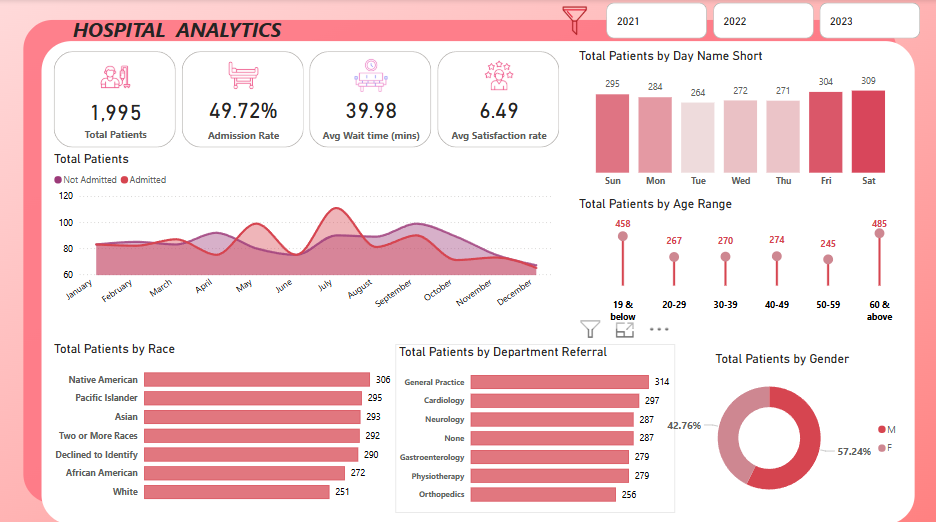

Layout of this report page (visuals, bound fields, positions):
{"tool":"powerbi","page":{"name":"Page 1","canvas":[1280,720],"ordinal":0},"visuals":[{"type":"cardVisual","fields":{"Data":["measures (2).totalpatients","measures (2).admission rate","measures (2).avg.wait time (mins)","measures (2).avg satisfaction"]},"box":[70,65.9,698.5,141.3],"z":0},{"type":"areaChart","title":"Total Patients","fields":{"Y":["measures (2).Total Patients"],"Series":["Hospital_ER_Dashboard_2021_2023_Final.Admission"],"Category":["DateTable.Month Name"]},"box":[70,207.2,688.9,230.5],"z":1000},{"type":"barChart","fields":{"Y":["measures (2).Total Patients"],"Category":["Hospital_ER_Dashboard_2021_2023_Final.Race"]},"box":[70,466.6,469.3,230.5],"z":2000},{"type":"barChart","fields":{"Y":["measures (2).Total Patients"],"Category":["Hospital_ER_Dashboard_2021_2023_Final.Department Referral"]},"box":[539.3,469.3,381.5,230.5],"z":3000},{"type":"donutChart","fields":{"Y":["measures (2).Total Patients"],"Category":["Hospital_ER_Dashboard_2021_2023_Final.Gender"]},"box":[897.4,480.3,338.9,216.8],"z":4000},{"type":"clusteredColumnChart","fields":{"Y":["measures (2).Total Patients"],"Category":["DateTable.Day Name Short"]},"box":[784.9,65.9,451.5,200.3],"z":5000},{"type":"lineChart","title":"Total Patients by Age Range","fields":{"Y":["measures (2).Total Patients"],"Category":["Hospital_ER_Dashboard_2021_2023_Final.age band"]},"box":[784.9,269,451.5,179.8],"z":6000},{"type":"advancedSlicerVisual","fields":{"Values":["DateTable.Year"]},"box":[822,0,439.1,59],"z":7000},{"type":"textbox","box":[87.8,19.2,307.4,59],"z":8000},{"type":"image","box":[731.9,0,103.8,59.6],"z":8001}]}

Visuals, with their boxes in screenshot pixels (x1, y1, x2, y2), scaled from the page's 1280x720 canvas onto the 936x522 screenshot:
cardVisual - measures (2).totalpatients x measures (2).admission rate: x1=51, y1=48, x2=562, y2=150
"Total Patients" areaChart: x1=51, y1=150, x2=555, y2=317
barChart - measures (2).Total Patients x Hospital_ER_Dashboard_2021_2023_Final.Race: x1=51, y1=338, x2=394, y2=505
barChart - measures (2).Total Patients x Hospital_ER_Dashboard_2021_2023_Final.Department Referral: x1=394, y1=340, x2=673, y2=507
donutChart - measures (2).Total Patients x Hospital_ER_Dashboard_2021_2023_Final.Gender: x1=656, y1=348, x2=904, y2=505
clusteredColumnChart - measures (2).Total Patients x DateTable.Day Name Short: x1=574, y1=48, x2=904, y2=193
"Total Patients by Age Range" lineChart: x1=574, y1=195, x2=904, y2=325
advancedSlicerVisual - DateTable.Year: x1=601, y1=0, x2=922, y2=43
textbox: x1=64, y1=14, x2=289, y2=57
image: x1=535, y1=0, x2=611, y2=43
